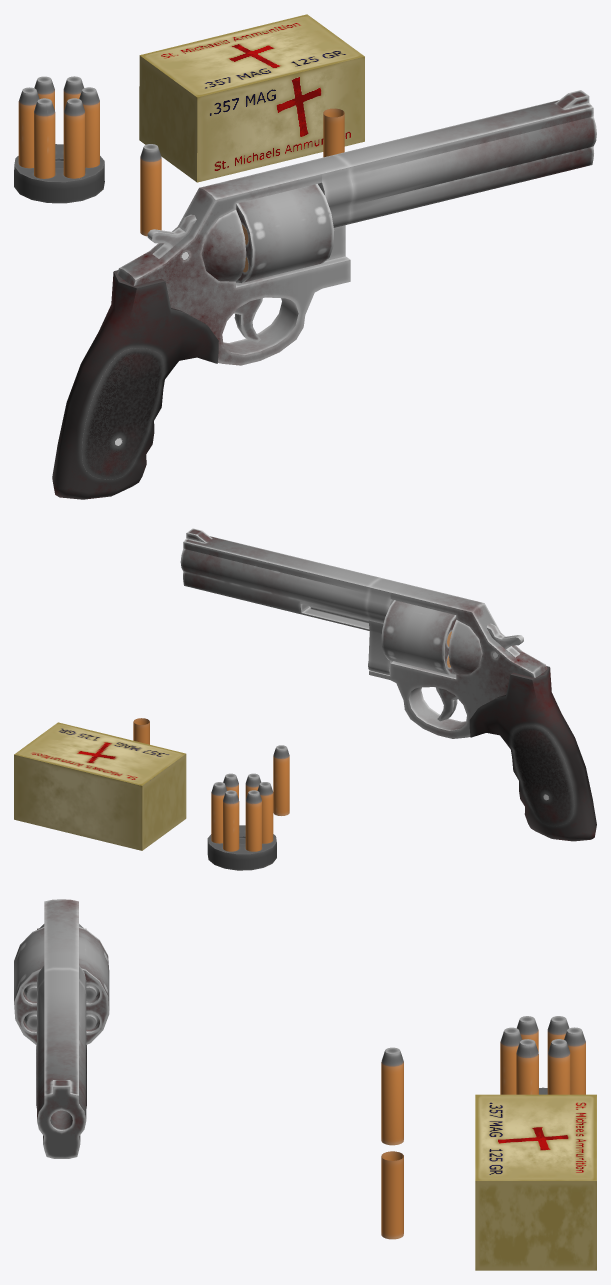
Rendered from revolver-game-asset__revolver_fbx_gltf_blend_textures__GLTF__RevolverExport.glb.
3 renders of one model, top to bottom at view 1: azimuth 30°, elevation 25°; view 2: azimuth 150°, elevation 25°; view 3: azimuth 270°, elevation 25°, orthographic. The views are drawn at different scales.
Parts seen in each view (by area): view 1: REV_Frame, 357AmmunitionBox, REV_Handle, REV_Cylinder, 357BulletCylinders, 357Bullet, 357Bullet.003, 357Bullet.004, 357Bullet.005, 357Bullet.002, 357BulletFired, Hammer (+1 smaller); view 2: REV_Frame, 357AmmunitionBox, REV_Handle, REV_Cylinder, 357BulletCylinders, 357Bullet, 357Bullet.005, 357Bullet.007, LOW_CHamberRotate, 357Bullet.004, 357Bullet.001, Hammer; view 3: 357AmmunitionBox, REV_Frame, REV_Cylinder, 357Bullet, 357BulletFired, 357Bullet.001, 357Bullet.002, 357Bullet.003, 357Bullet.007, 357Bullet.005.
Part boxes in pixels (x1,y1,x2,y2): REV_Frame: (117,90,596,365); 357AmmunitionBox: (139,14,364,182); REV_Handle: (52,270,218,499); REV_Cylinder: (236,184,334,282); 357BulletCylinders: (14,144,104,203); 357Bullet: (140,144,161,236); 357Bullet.003: (63,98,85,178); 357Bullet.004: (34,98,55,178); 357Bullet.005: (18,87,39,168); 357Bullet.002: (79,87,99,167); 357BulletFired: (323,108,344,157); Hammer: (147,214,196,258); REV_Frame: (180,528,547,738); 357AmmunitionBox: (14,722,186,850); REV_Handle: (469,666,596,841); REV_Cylinder: (381,600,456,675); 357BulletCylinders: (207,825,276,870); 357Bullet: (273,745,289,815); 357Bullet.005: (245,790,261,851); 357Bullet.007: (223,790,239,851); LOW_CHamberRotate: (368,620,392,675); 357Bullet.004: (257,782,273,843); 357Bullet.001: (211,782,226,843); Hammer: (486,623,523,657); 357AmmunitionBox: (475,1094,596,1270); REV_Frame: (37,899,86,1158); REV_Cylinder: (14,927,109,1045); 357Bullet: (381,1047,403,1145); 357BulletFired: (381,1151,403,1239); 357Bullet.001: (548,1039,570,1094); 357Bullet.002: (516,1039,538,1094); 357Bullet.003: (500,1027,522,1094); 357Bullet.007: (564,1027,585,1094); 357Bullet.005: (547,1016,569,1094).
Size of the model in its own units: 0.3446 by 0.1767 by 0.3108.
Materials: 2 (2 with a texture image).
